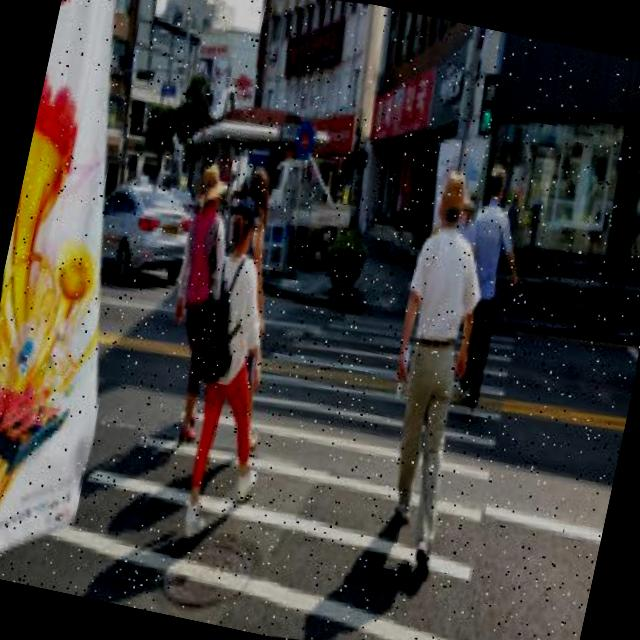Person: (336, 162, 526, 592), (153, 188, 315, 546), (136, 162, 257, 446), (424, 165, 550, 428)
